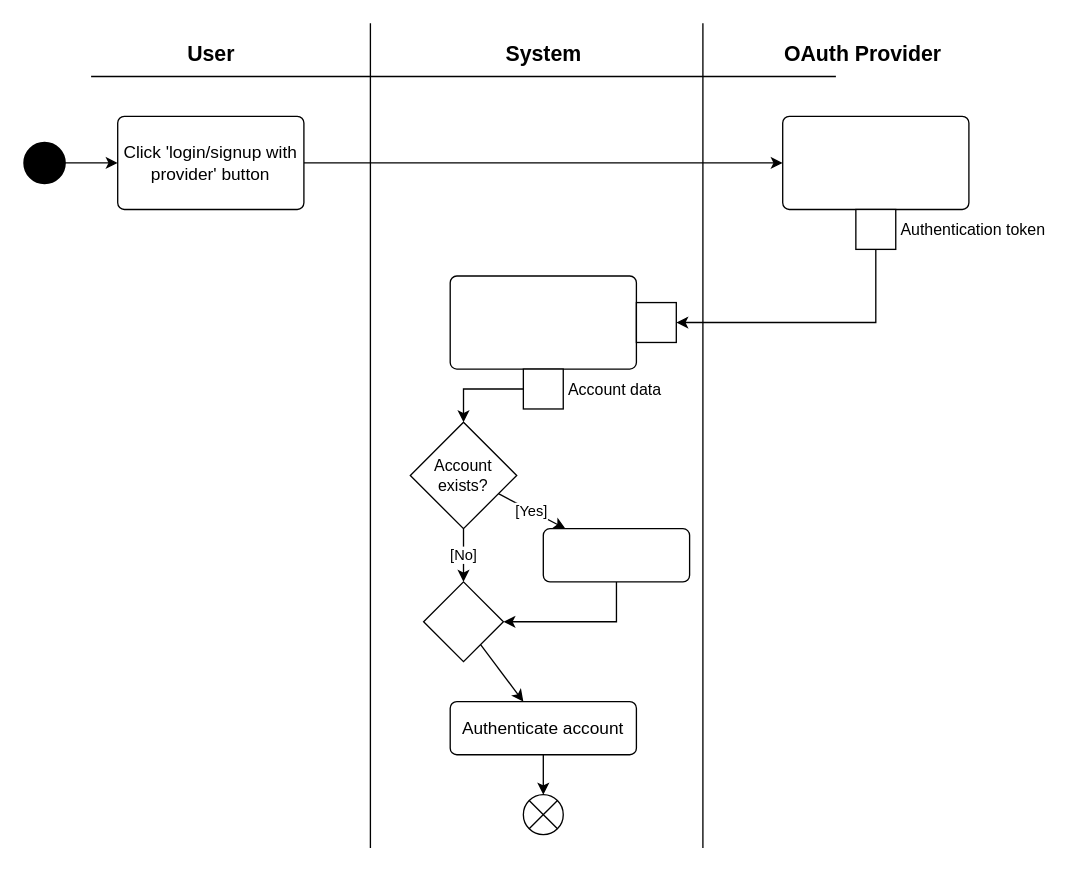
Some shapes in this 1068 by 872 pixel diagram are drawn without their labels. Each missing label, with the centre of its shape:
"Authenticate client internally" goes at (x=875, y=162).
"Create account" goes at (x=616, y=554).
"Receive account data from provider" goes at (x=542, y=322).
